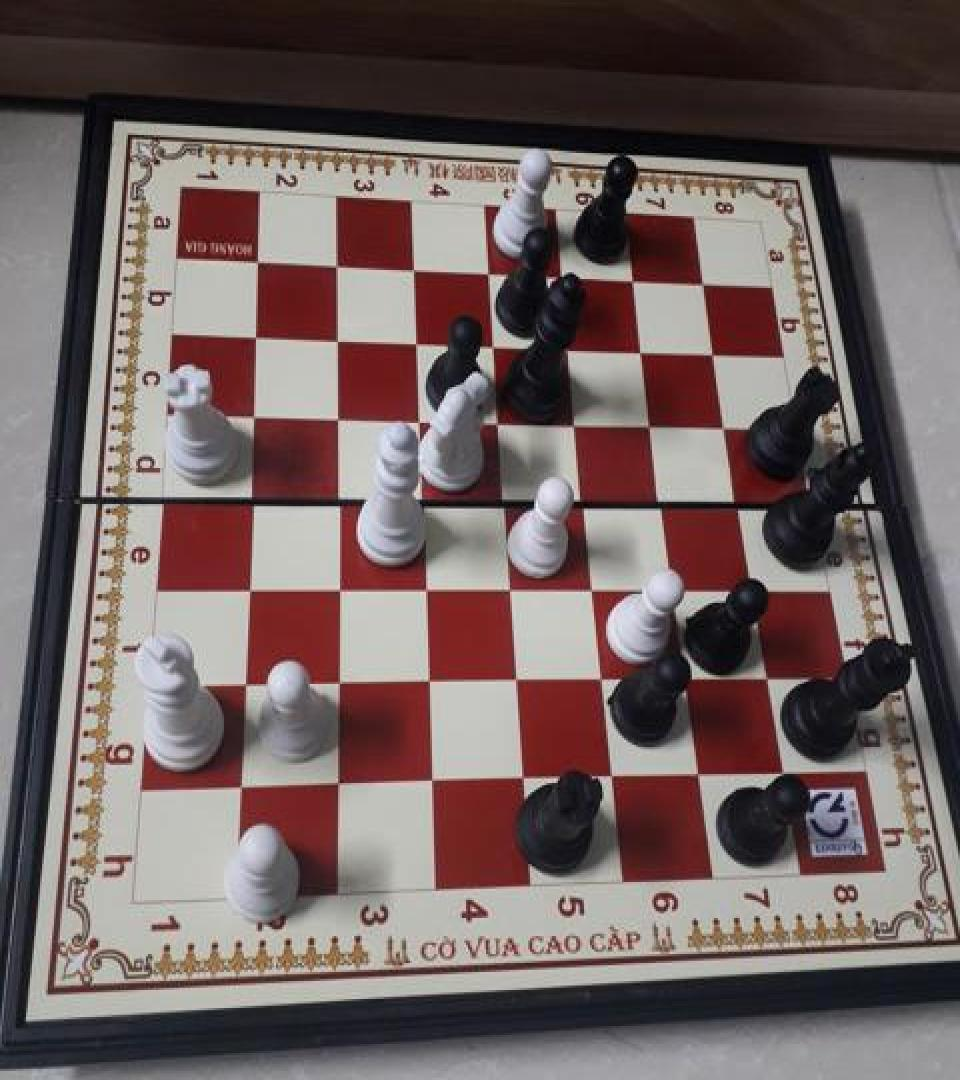xcorner: (323, 660, 355, 697), (229, 661, 261, 698), (687, 264, 719, 300), (617, 261, 649, 297), (545, 258, 577, 294), (472, 254, 504, 290), (397, 250, 429, 286), (321, 246, 353, 282), (242, 242, 274, 278), (699, 333, 731, 369), (627, 331, 659, 367), (553, 328, 585, 364), (477, 324, 509, 360), (400, 320, 432, 356), (321, 318, 353, 354), (240, 315, 272, 351), (711, 406, 743, 442), (637, 404, 669, 440), (561, 402, 593, 438), (483, 400, 515, 436), (403, 397, 435, 433), (321, 395, 353, 431), (238, 392, 270, 428), (724, 484, 756, 520), (648, 482, 680, 518), (569, 482, 601, 518), (489, 480, 521, 516), (406, 478, 438, 514), (322, 477, 354, 513), (235, 476, 267, 512), (738, 567, 770, 603), (659, 567, 691, 603), (578, 566, 610, 602), (495, 566, 527, 602), (410, 566, 442, 602), (322, 565, 354, 601), (232, 565, 264, 601), (753, 656, 785, 692), (672, 657, 704, 693), (588, 657, 620, 693), (502, 658, 534, 694), (413, 659, 445, 695), (769, 752, 801, 788), (685, 754, 717, 790), (598, 755, 630, 791), (509, 757, 541, 793), (417, 760, 449, 796), (323, 763, 355, 799), (226, 765, 258, 801)
